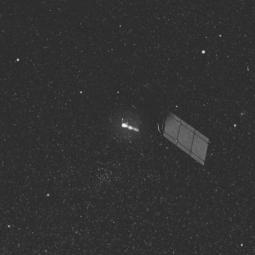earth_observation_sat_1: (106, 85, 210, 168)
